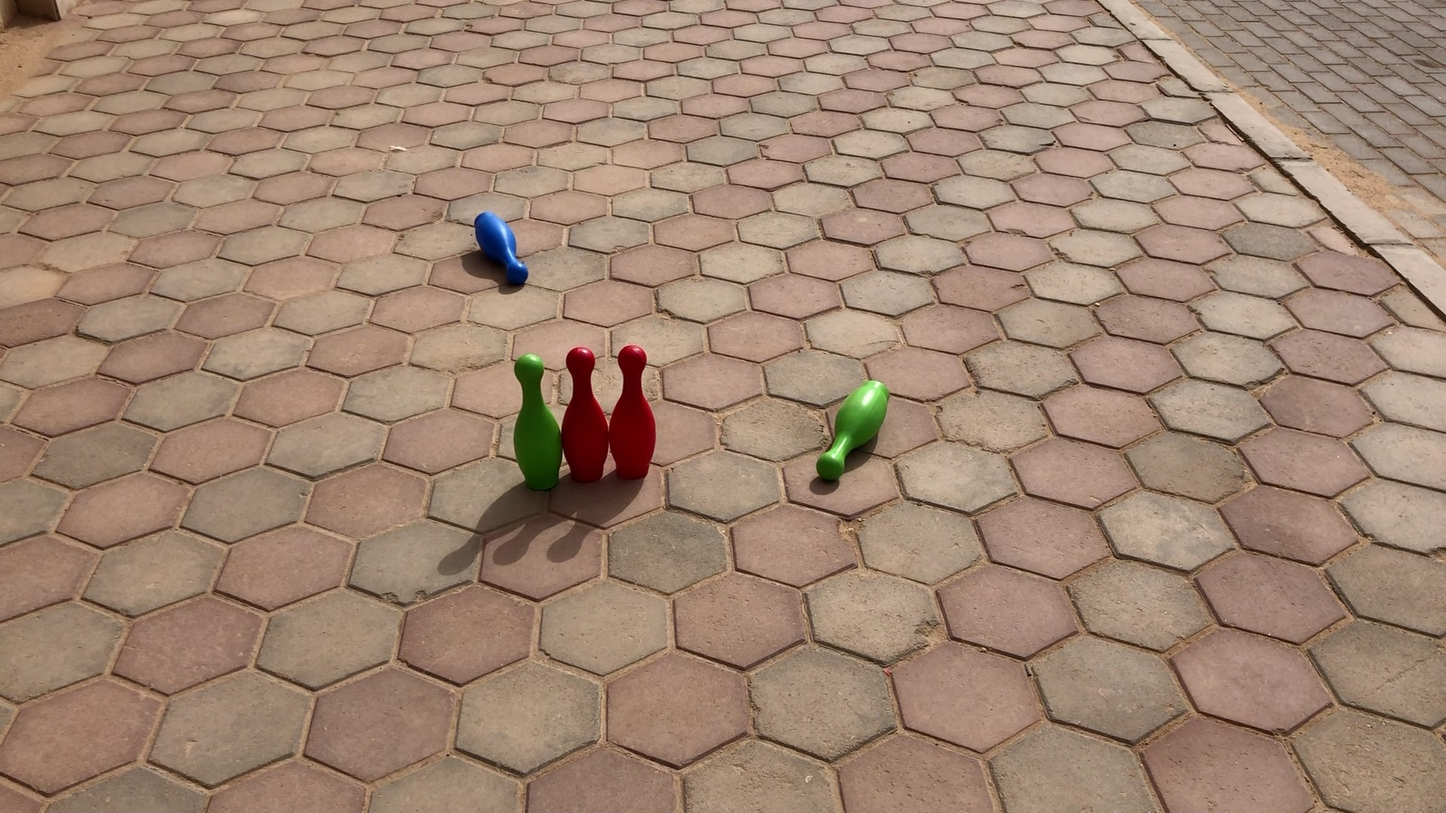bowling-pin: (517, 352, 565, 488), (564, 347, 611, 483), (819, 381, 883, 480), (610, 345, 656, 478), (474, 212, 530, 285)
